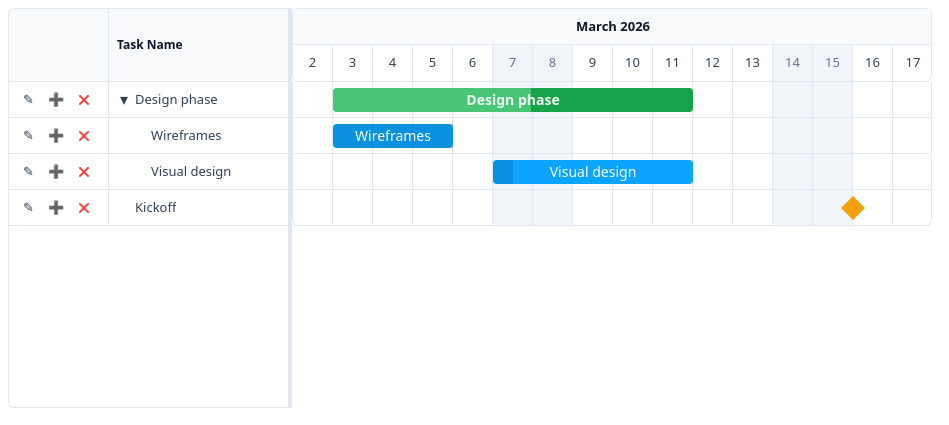
task-list treegrid semantics › flips aria-expanded and drops the collapsed subtree on toggle
The image size is (949, 425).
What coordinates should you click on to do the following:
click the button named "Collapse"
I would click on:
 (124, 100)
Its box is [117, 92, 131, 108].
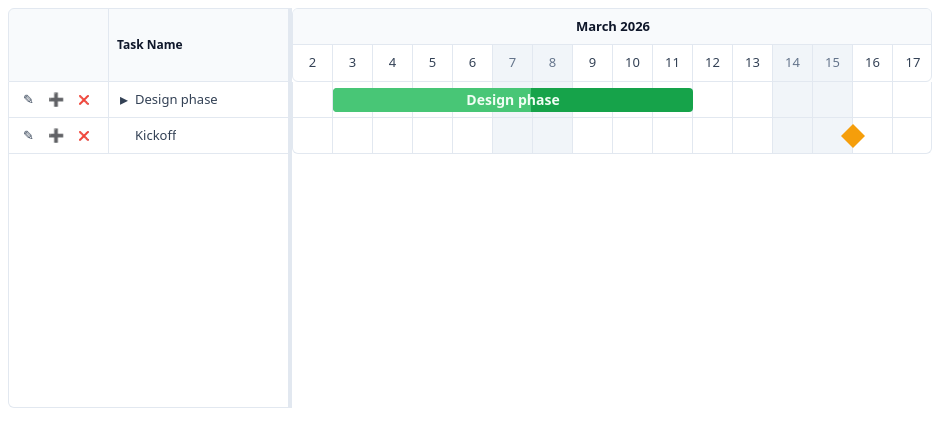
Expected: the row "✎ ➕ ❌ ▸ Design phase 3/3/2026 3/11/2026 55%" is collapsed, [9, 82, 579, 118]
